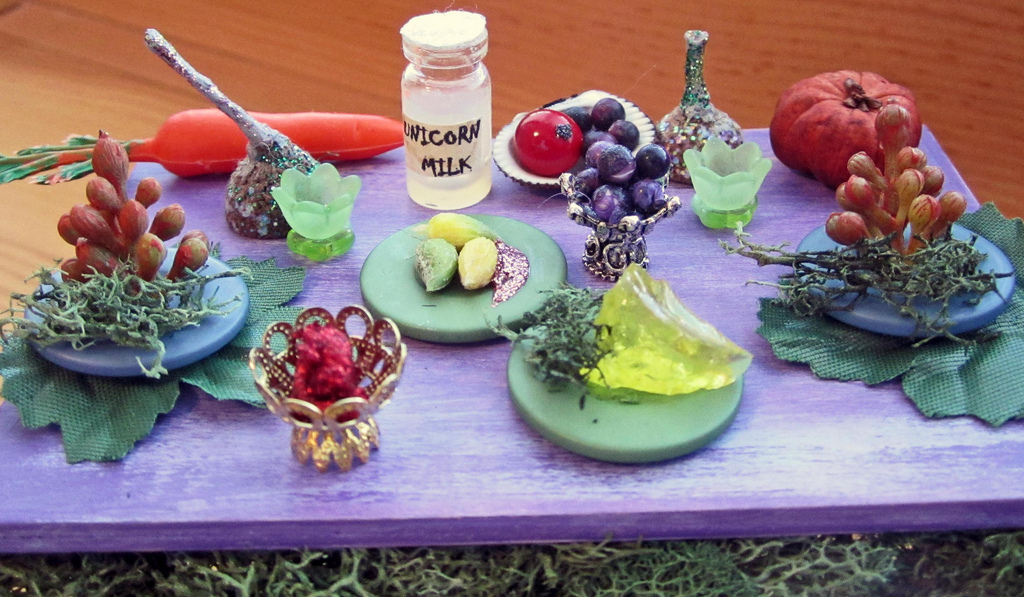glass of water: (402, 64, 494, 207)
